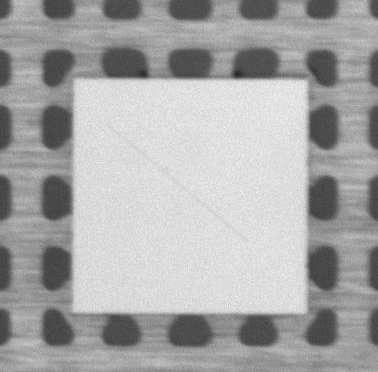DIE_CRACK: (111, 124, 251, 237)
